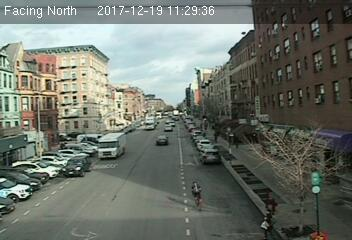bicycle: (189, 178, 206, 213)
car: (63, 156, 90, 175), (202, 149, 220, 163), (156, 134, 168, 143)
truck: (97, 131, 126, 160)
